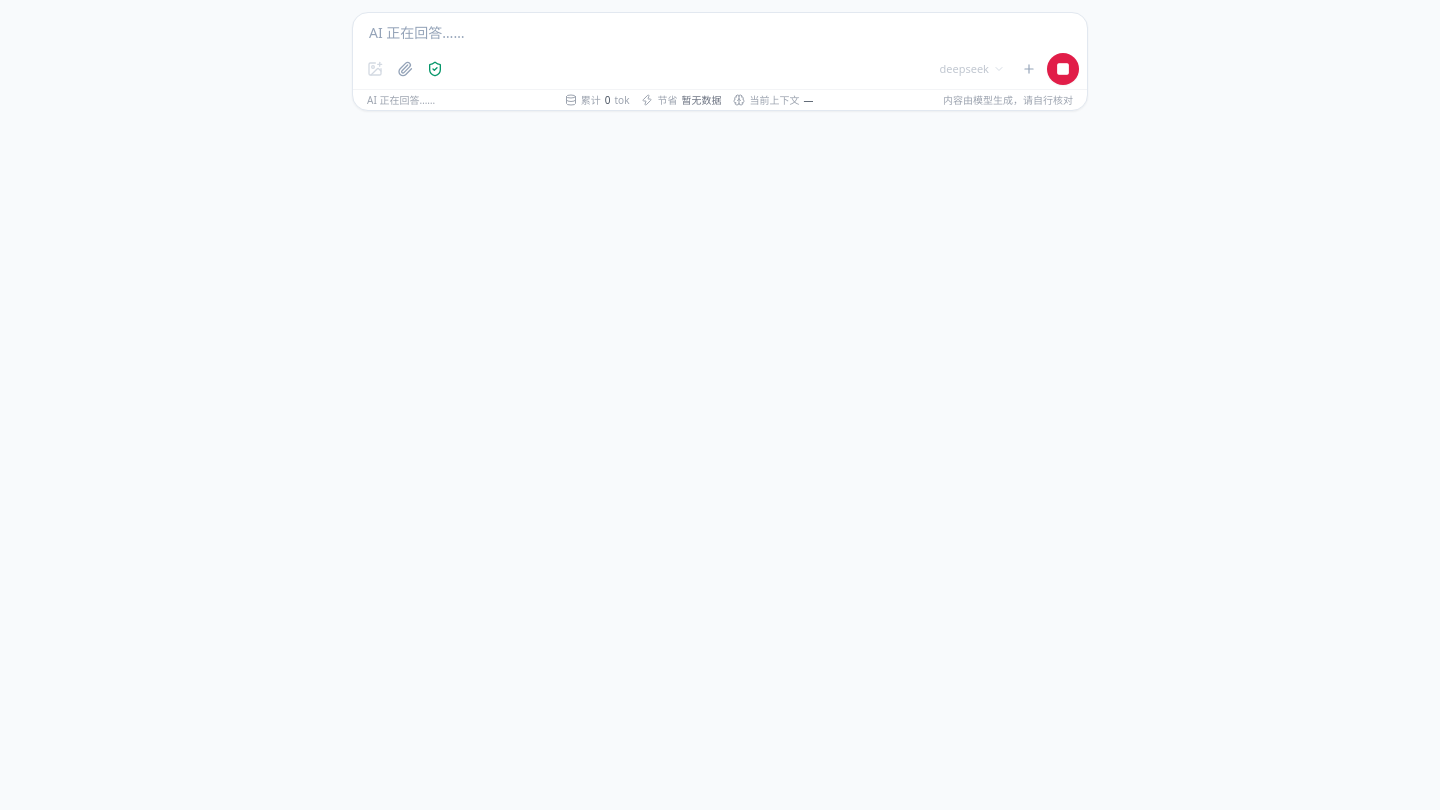
Test: 模型管理面板 › 正在回答时：下拉框禁用、保存与删除都禁用
The image size is (1440, 810).
Expected: the button with aria-label "选择模型" is disabled, [934, 57, 1011, 81]
What coordinates should you click on to do the following:
click the button named "模型管理"
I would click on:
 (1029, 69)
Its box is [1015, 55, 1043, 83].
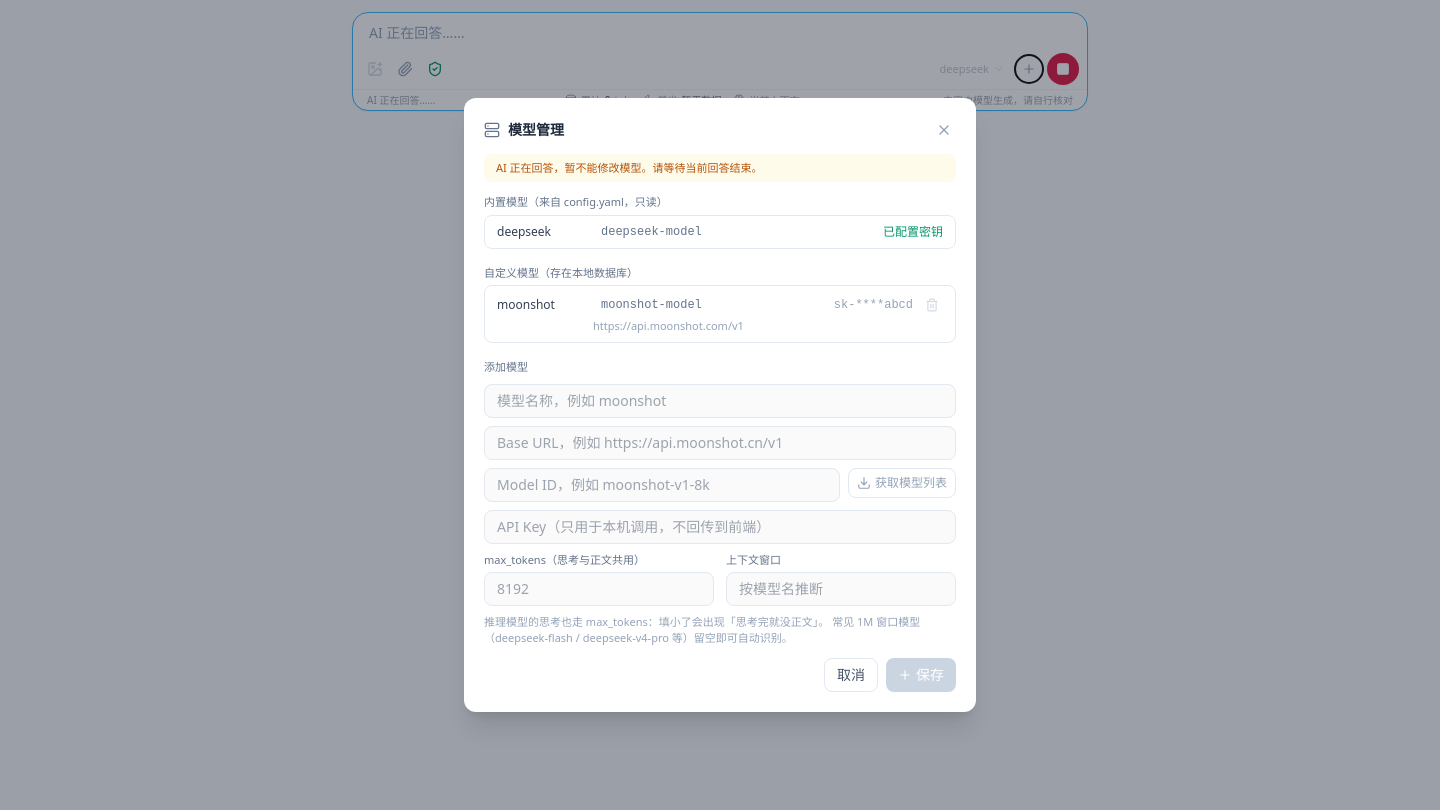
Now the text "AI 正在回答，暂不能修改模型。请等待当前回答结束。" is shown, box [484, 154, 956, 182]
Now the button "保存" is disabled, box [886, 658, 956, 692]
Now the button named "删除模型 moonshot" is disabled, box [921, 294, 943, 316]
